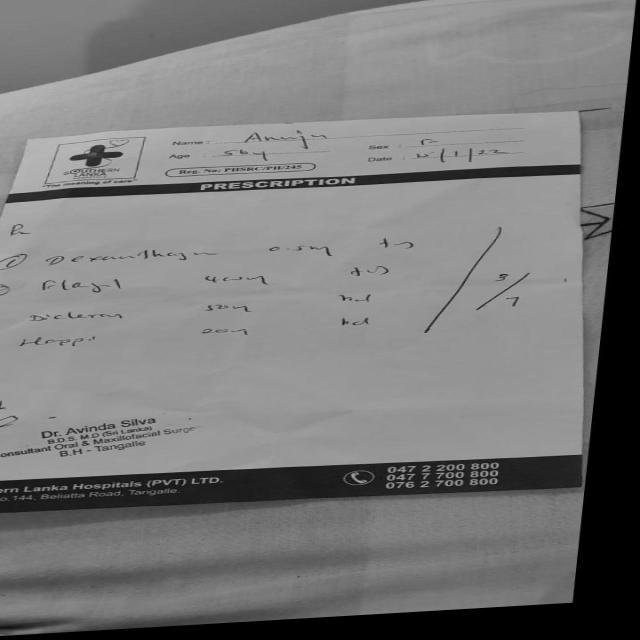Prescription: (50, 236, 431, 274), (40, 263, 404, 301), (31, 292, 385, 326), (22, 318, 385, 350)
